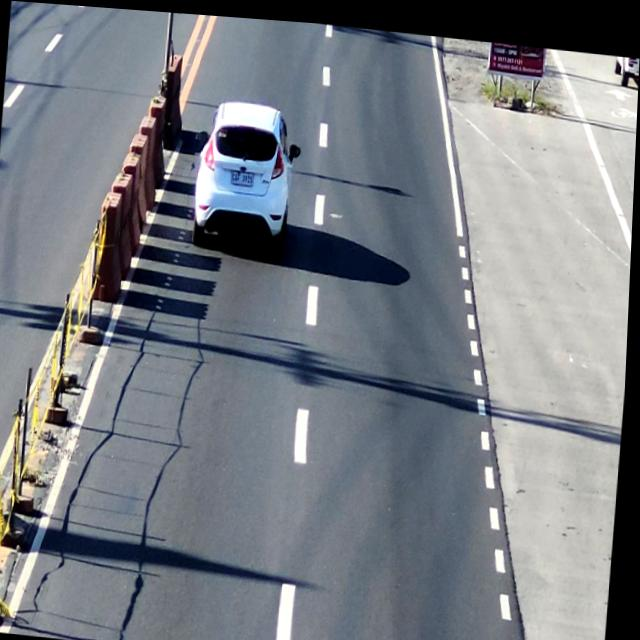Car: (191, 93, 304, 260)
License-Plate: (230, 164, 257, 184)
